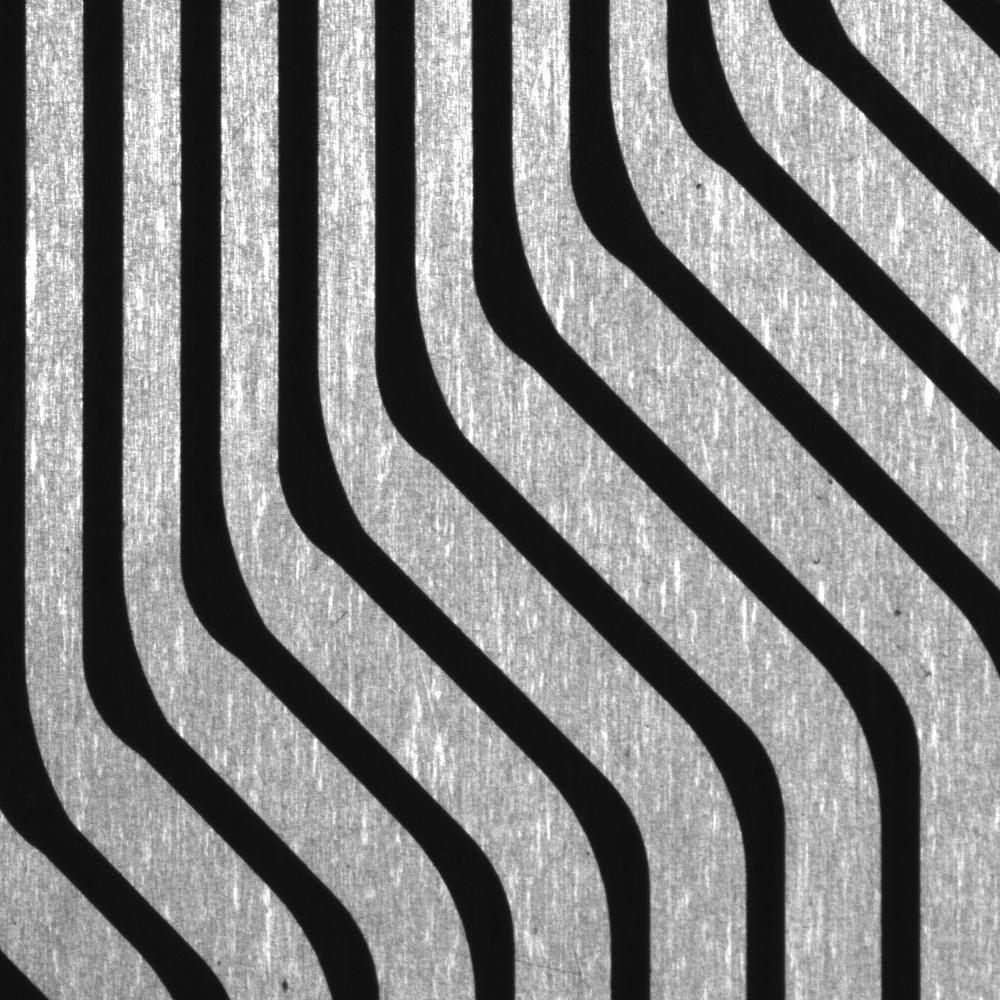Etching: (270, 966, 299, 1000), (691, 176, 710, 197), (809, 553, 827, 573)
Pinhole: (886, 597, 910, 624), (581, 846, 595, 860), (212, 958, 225, 971)
Scar: (412, 658, 465, 814), (768, 444, 838, 504), (513, 945, 588, 984), (226, 81, 272, 144), (316, 604, 356, 637)
